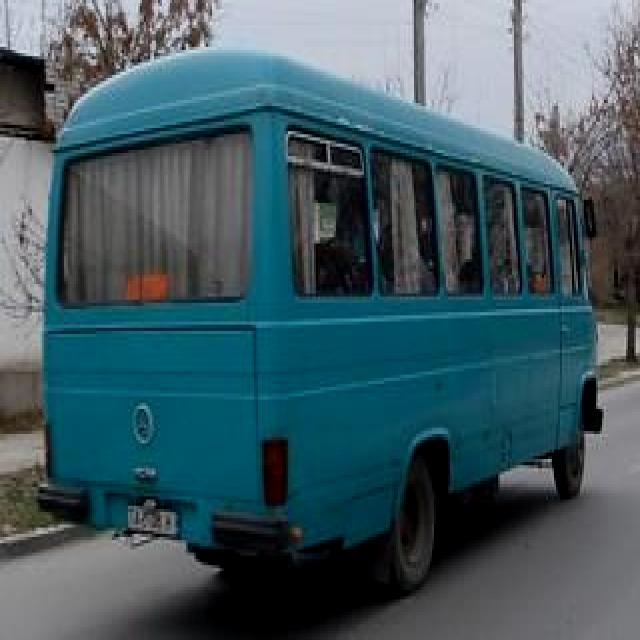Bus: (34, 47, 607, 614)
